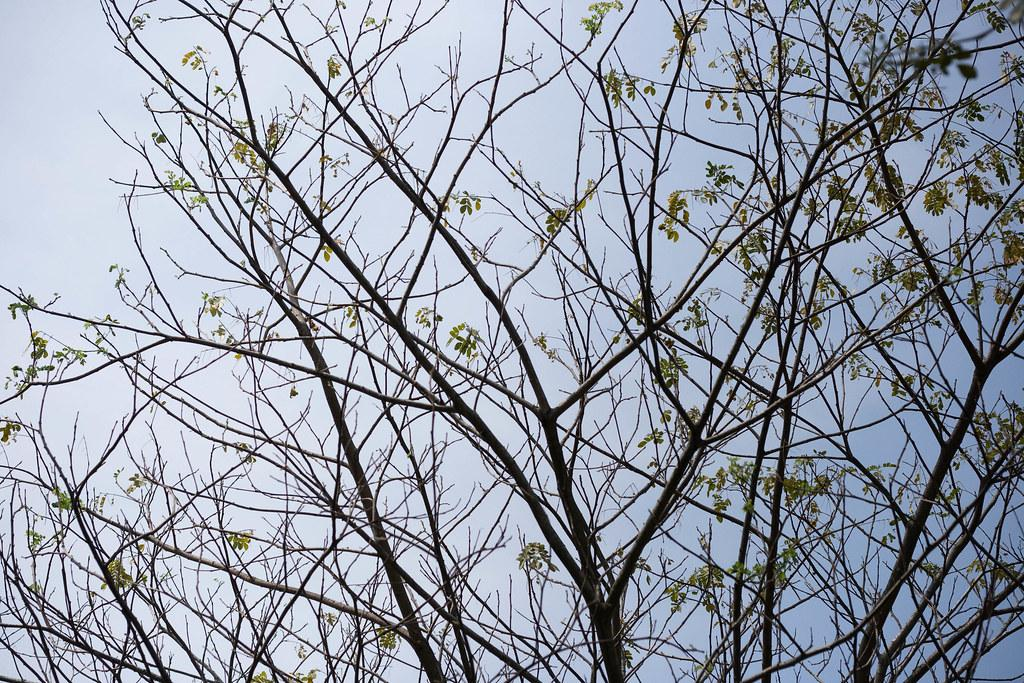baldness: (261, 223, 535, 682), (378, 391, 565, 567), (344, 289, 450, 393), (574, 576, 623, 682), (348, 266, 368, 293), (258, 434, 269, 453), (463, 269, 478, 279)
